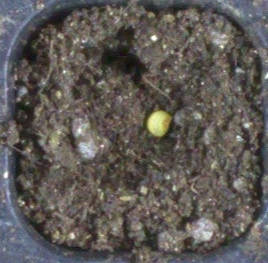pepper seed: (59, 40, 231, 179)
